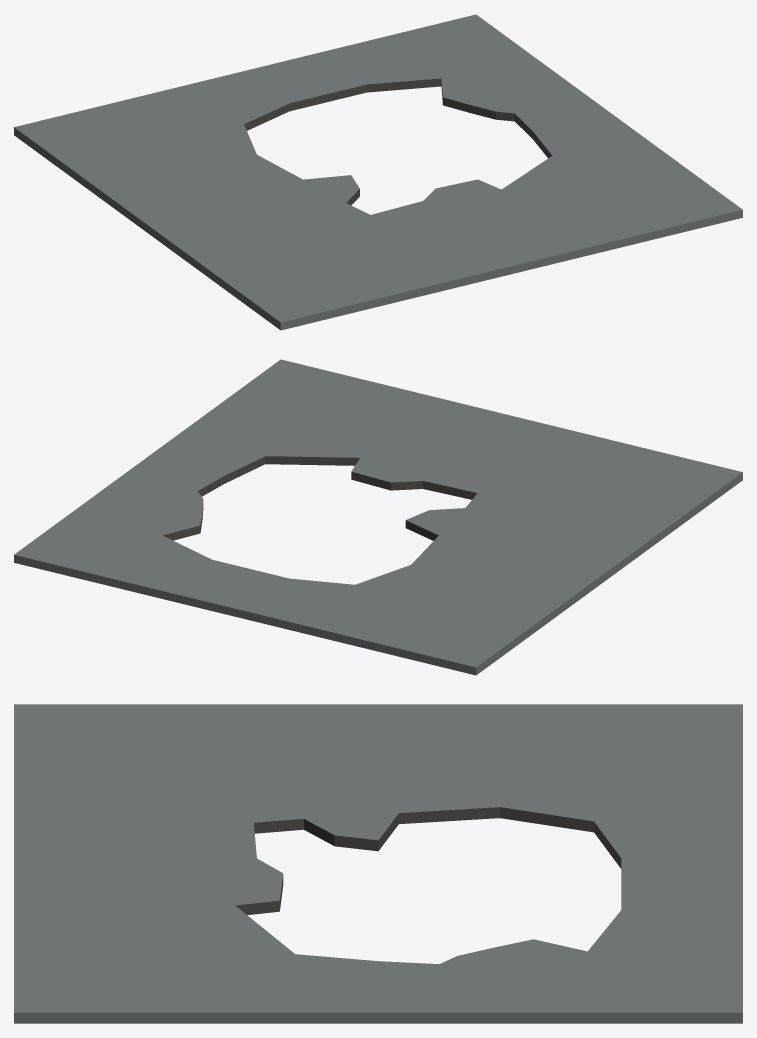
Rendered from SM_Floor_Broken_3x3_A.gltf.
3 renders of one model, top to bottom at view 1: azimuth 30°, elevation 25°; view 2: azimuth 150°, elevation 25°; view 3: azimuth 270°, elevation 25°, orthographic. The views are drawn at different scales.
Visible parts, largest first — view 1: SM_Floor_Broken_3x3_A; view 2: SM_Floor_Broken_3x3_A; view 3: SM_Floor_Broken_3x3_A.
Part boxes in pixels (left/top/right/bottom): SM_Floor_Broken_3x3_A: left=14, top=14, right=742, bottom=330; SM_Floor_Broken_3x3_A: left=14, top=359, right=742, bottom=675; SM_Floor_Broken_3x3_A: left=14, top=704, right=742, bottom=1023.
Size of the model in its own units: 3 by 0.05 by 3.
1 material, 1 textured.
